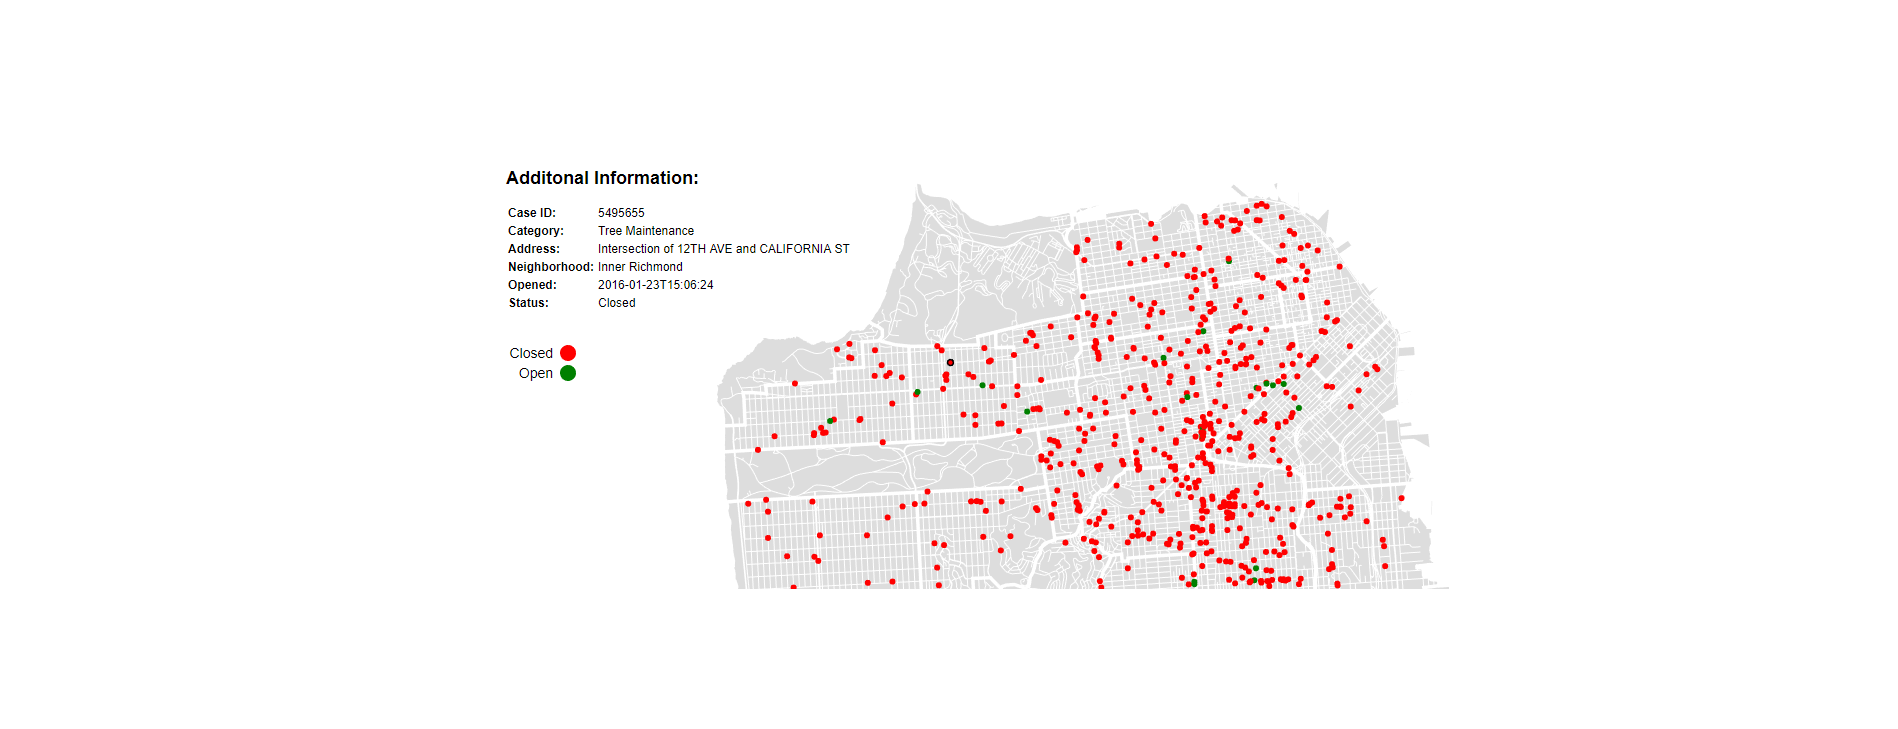

The dashboard page shown, as its layout file describes it:
{"tool":"tableau","page":{"name":"Dashboard 1","canvas":[1000,800],"ordinal":0},"visuals":[{"type":"worksheet","title":"Sheet 1","mark":"Circle","box":[0,14,483,475]},{"type":"worksheet","title":"Sheet 2","mark":"Bar","rows":["F2"],"cols":["F4","F16"],"box":[449,21,541,501]},{"type":"legend","title":"Sheet 1","param":"[federated.0y68jnz1uxo9a21evjn5g1x0vycd].[sum:F16:qk]","box":[52,485,140,39]}]}

Visuals, with their boxes on the page's 1000x800 design canvas (x1, y1, x2, y2). These are canvas units, not pixel positions in the 1898x729 screenshot, which may show the page scaled, cropped or inside an application window:
"Sheet 1" worksheet (Circle marks): [x1=0, y1=14, x2=483, y2=489]
"Sheet 2" worksheet (Bar marks): [x1=449, y1=21, x2=990, y2=522]
"Sheet 1" legend: [x1=52, y1=485, x2=192, y2=524]
